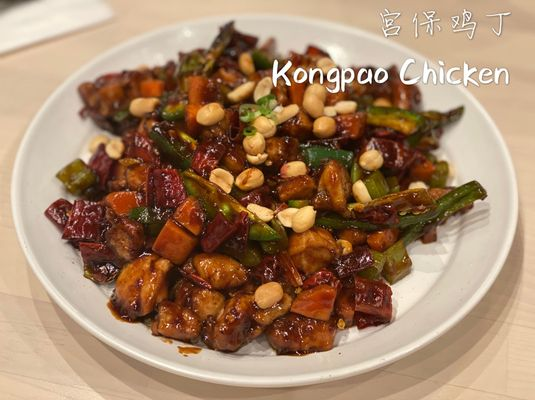curry: (2, 0, 534, 400)
pizza: (104, 190, 138, 214), (139, 79, 164, 97)
